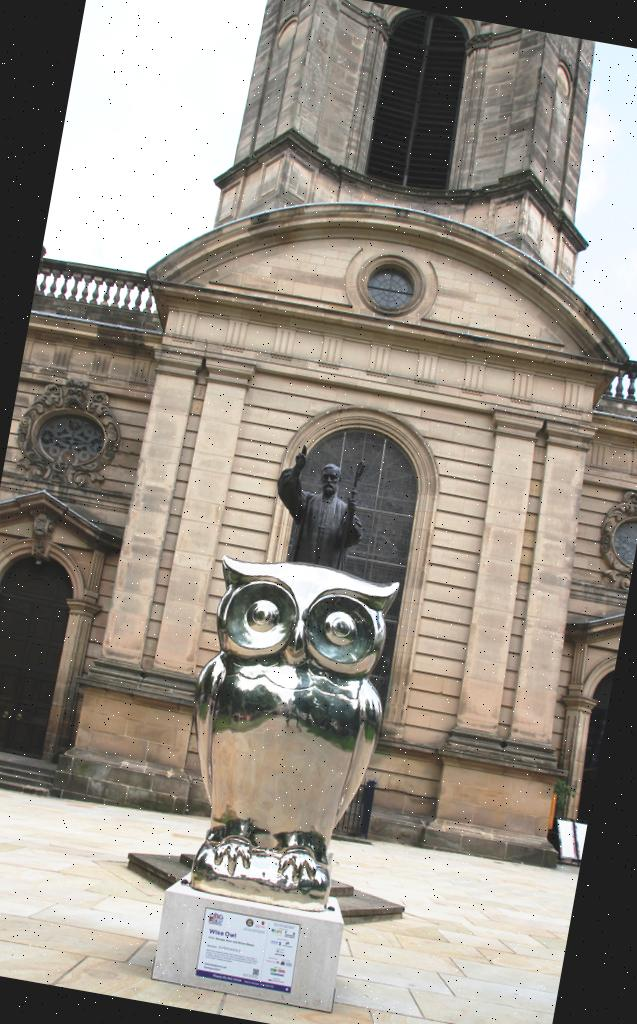Owl: (161, 541, 420, 897)
